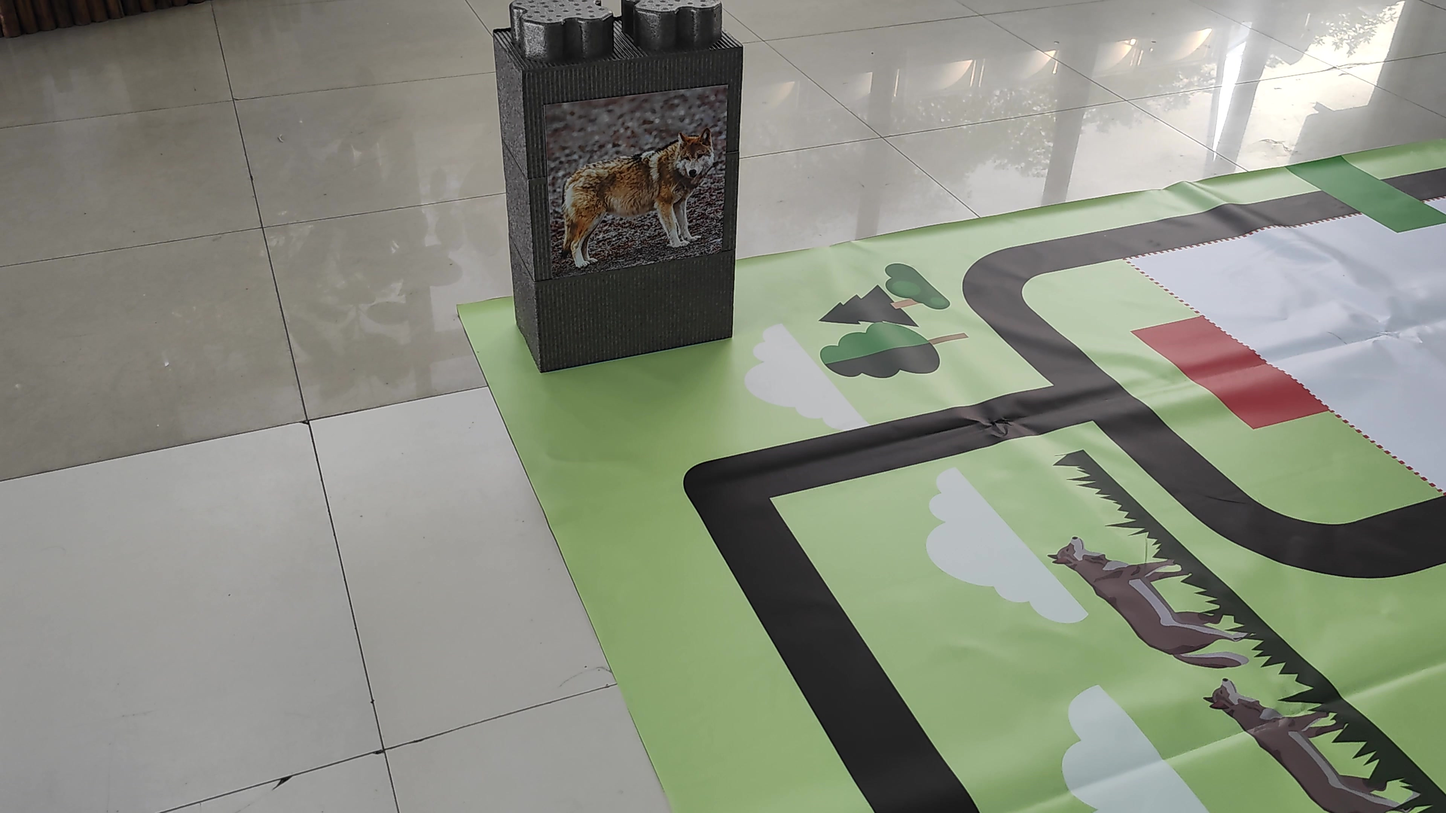wolf: (539, 100, 726, 271)
